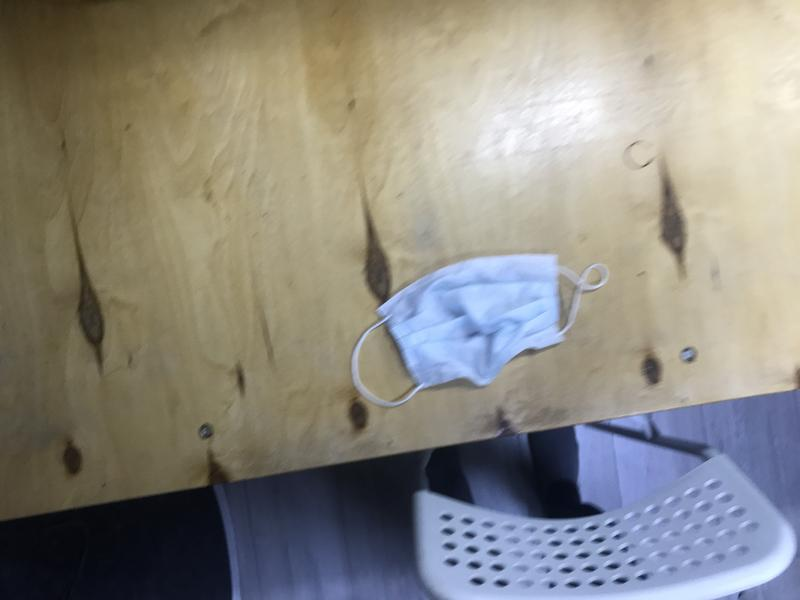medical_mask: (349, 254, 609, 409)
